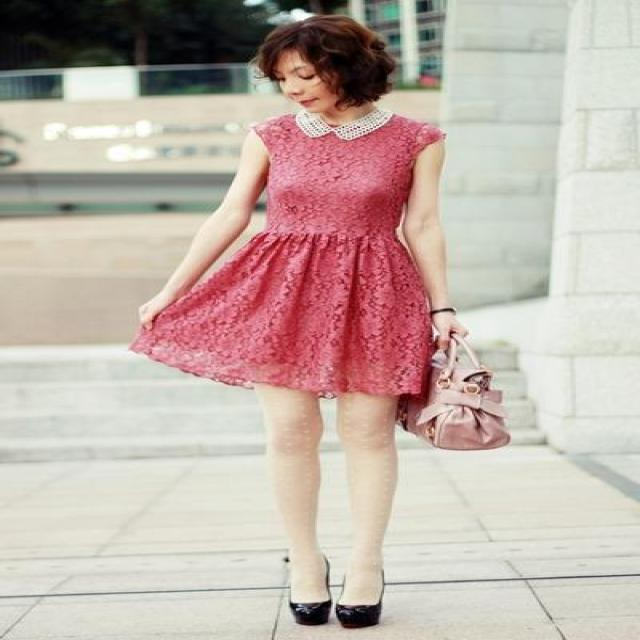bag: (384, 328, 549, 450)
dress: (120, 104, 445, 418)
shoe: (290, 600, 379, 628)
